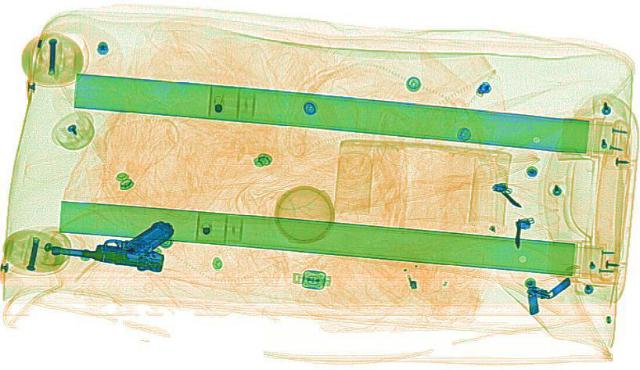Gun: (48, 218, 174, 272)
